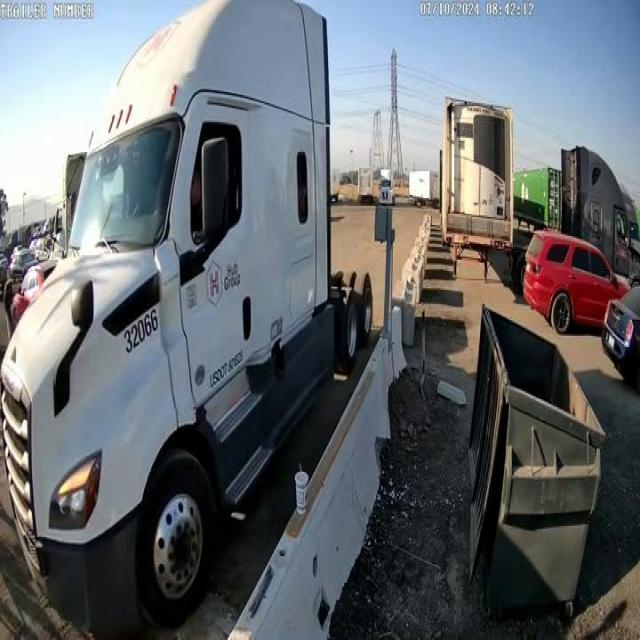BOBTAIL: (0, 0, 375, 622)
